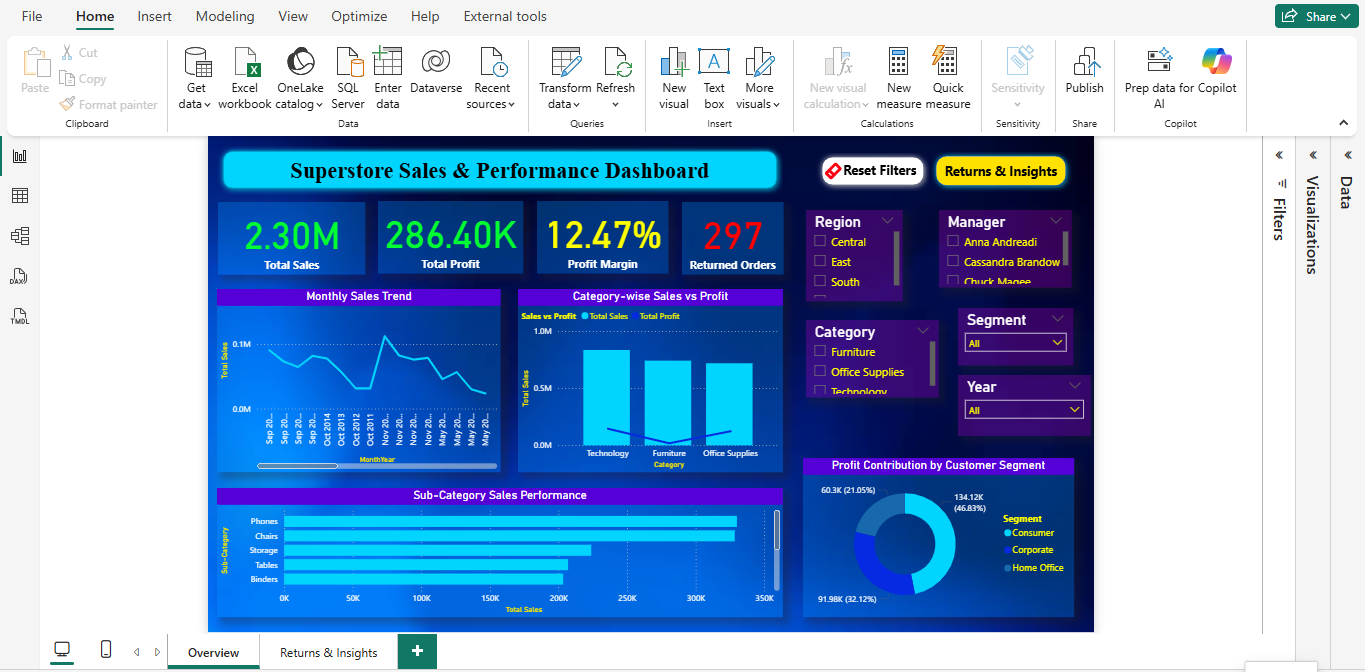

Layout of this report page (visuals, bound fields, positions):
{"tool":"powerbi","page":{"name":"Overview ","canvas":[1280,720],"ordinal":0},"visuals":[{"type":"card","fields":{"Values":["Orders.Total Sales"]},"box":[15,95,213.3,105],"z":0},{"type":"card","fields":{"Values":["Orders.Total Profit"]},"box":[245.4,94.6,210,105],"z":1000},{"type":"card","fields":{"Values":["Orders.Profit Margin"]},"box":[475.4,94.6,190,105],"z":2000},{"type":"card","fields":{"Values":["Orders.Returned Orders"]},"box":[685,95,146.7,105],"z":3000},{"type":"lineChart","title":"Monthly Sales Trend","fields":{"Category":["Orders.MonthYear"],"Y":["Orders.Total Sales"]},"box":[13.3,221.7,410,265],"z":4000},{"type":"lineClusteredColumnComboChart","title":"Category-wise Sales vs Profit","fields":{"Category":["Orders.Category"],"Y":["Orders.Total Sales"],"Y2":["Orders.Total Profit"]},"box":[448.3,221.7,383.3,265],"z":5000},{"type":"clusteredBarChart","title":"Sub-Category  Sales Performance ","fields":{"Category":["Orders.Sub-Category"],"Y":["Orders.Total Sales"]},"box":[13.3,508.3,818.3,186.7],"z":6000},{"type":"slicer","fields":{"Values":["Orders.Year"]},"box":[1085,345,191.7,88.3],"z":7000},{"type":"slicer","fields":{"Values":["Orders.Category"]},"box":[865,266.7,191.7,111.7],"z":8000},{"type":"slicer","fields":{"Values":["Orders.Region"]},"box":[865,106.7,140,131.7],"z":9000},{"type":"slicer","fields":{"Values":["Orders.Segment"]},"box":[1085,248.3,166.7,83.3],"z":10000},{"type":"slicer","fields":{"Values":["People.Person"]},"box":[1056.7,106.7,191.7,111.7],"z":11000},{"type":"shape","box":[13.3,13.3,818.3,71.7],"z":12000},{"type":"textbox","box":[92.2,26.7,658.9,67.8],"z":13000},{"type":"donutChart","title":"Profit Contribution by Customer Segment","fields":{"Y":["Orders.Profit"],"Category":["Orders.Segment"]},"box":[860,465,391.7,230],"z":14000},{"type":"actionButton","box":[878.9,21.1,164.4,57.8],"z":15000},{"type":"pageNavigator","box":[1043.3,20,205,60],"z":16000}]}

Visuals, with their boxes on the page's 1280x720 design canvas (x1, y1, x2, y2). These are canvas units, not pixel positions in the 1365x672 screenshot, which may show the page scaled, cropped or inside an application window:
card - Orders.Total Sales: 15:95:228:200
card - Orders.Total Profit: 245:95:455:200
card - Orders.Profit Margin: 475:95:665:200
card - Orders.Returned Orders: 685:95:832:200
"Monthly Sales Trend" lineChart: 13:222:423:487
"Category-wise Sales vs Profit" lineClusteredColumnComboChart: 448:222:832:487
"Sub-Category  Sales Performance " clusteredBarChart: 13:508:832:695
slicer - Orders.Year: 1085:345:1277:433
slicer - Orders.Category: 865:267:1057:378
slicer - Orders.Region: 865:107:1005:238
slicer - Orders.Segment: 1085:248:1252:332
slicer - People.Person: 1057:107:1248:218
shape: 13:13:832:85
textbox: 92:27:751:94
"Profit Contribution by Customer Segment" donutChart: 860:465:1252:695
actionButton: 879:21:1043:79
pageNavigator: 1043:20:1248:80
